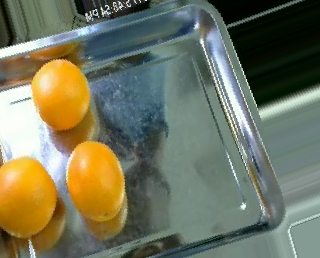Orange: (66, 140, 125, 221), (1, 156, 57, 237), (32, 58, 90, 130)
